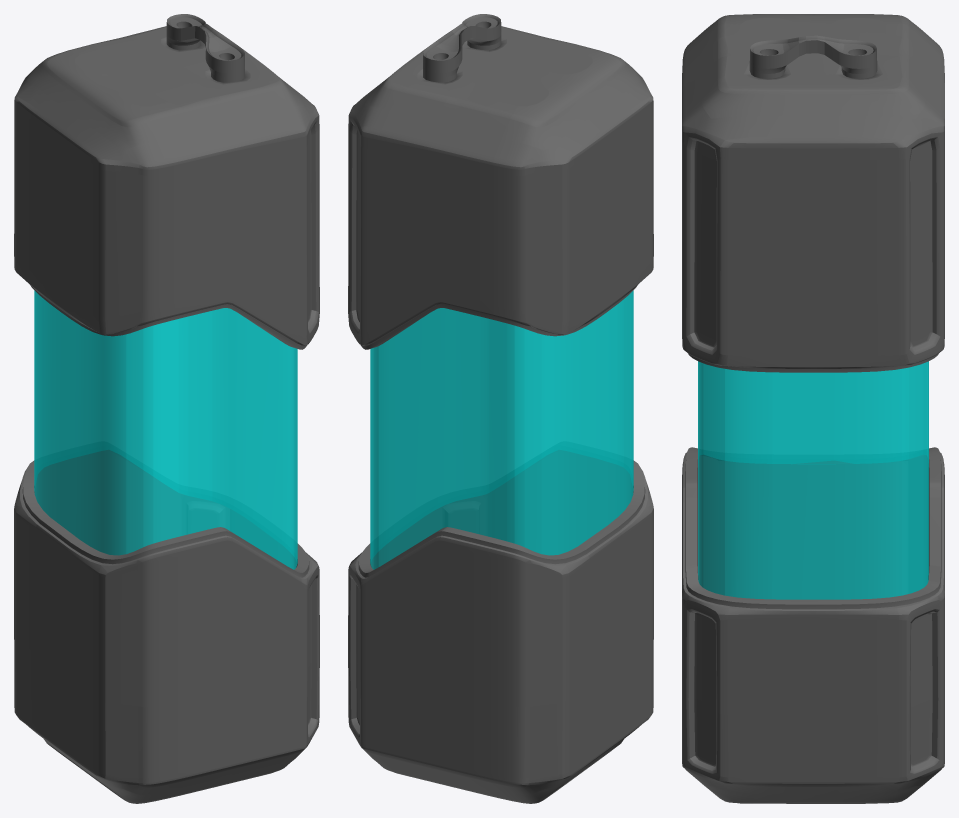
File: batteryPack.fbx
3 renders of one model, left to right at view 1: azimuth 30°, elevation 25°; view 2: azimuth 150°, elevation 25°; view 3: azimuth 270°, elevation 25°, orthographic. The views are drawn at different scales.
Parts seen in each view (by area): view 1: batteryPack; view 2: batteryPack; view 3: batteryPack.
Boxes of the visible parts, x1,y1,x2,y2 form: batteryPack: [14, 14, 319, 803]; batteryPack: [348, 14, 653, 803]; batteryPack: [682, 14, 944, 803].
Bounding box in the file's own units: 7.59 × 23.83 × 7.59.
